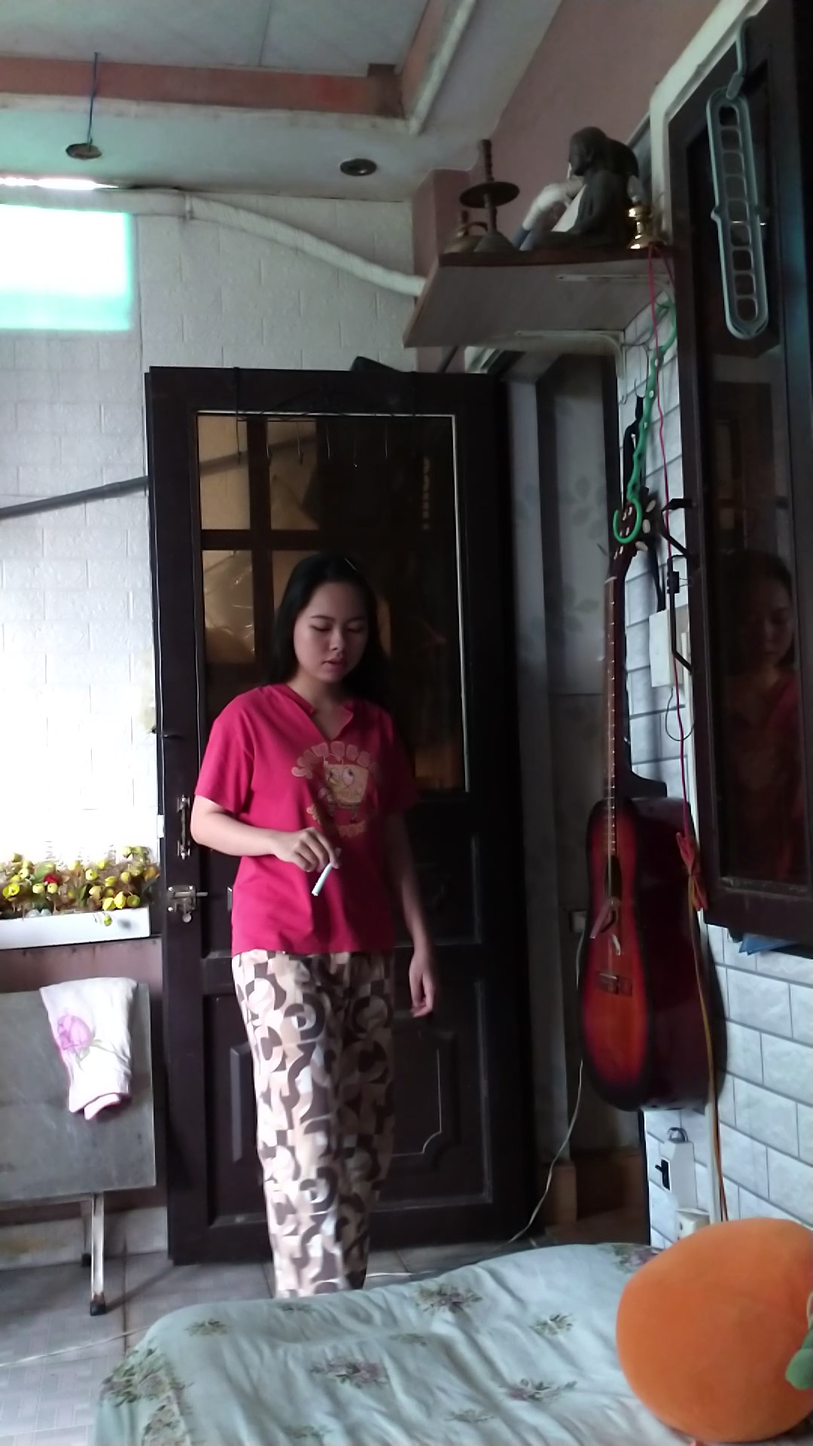cigarette: (307, 865, 333, 902)
person: (190, 529, 442, 1304)
